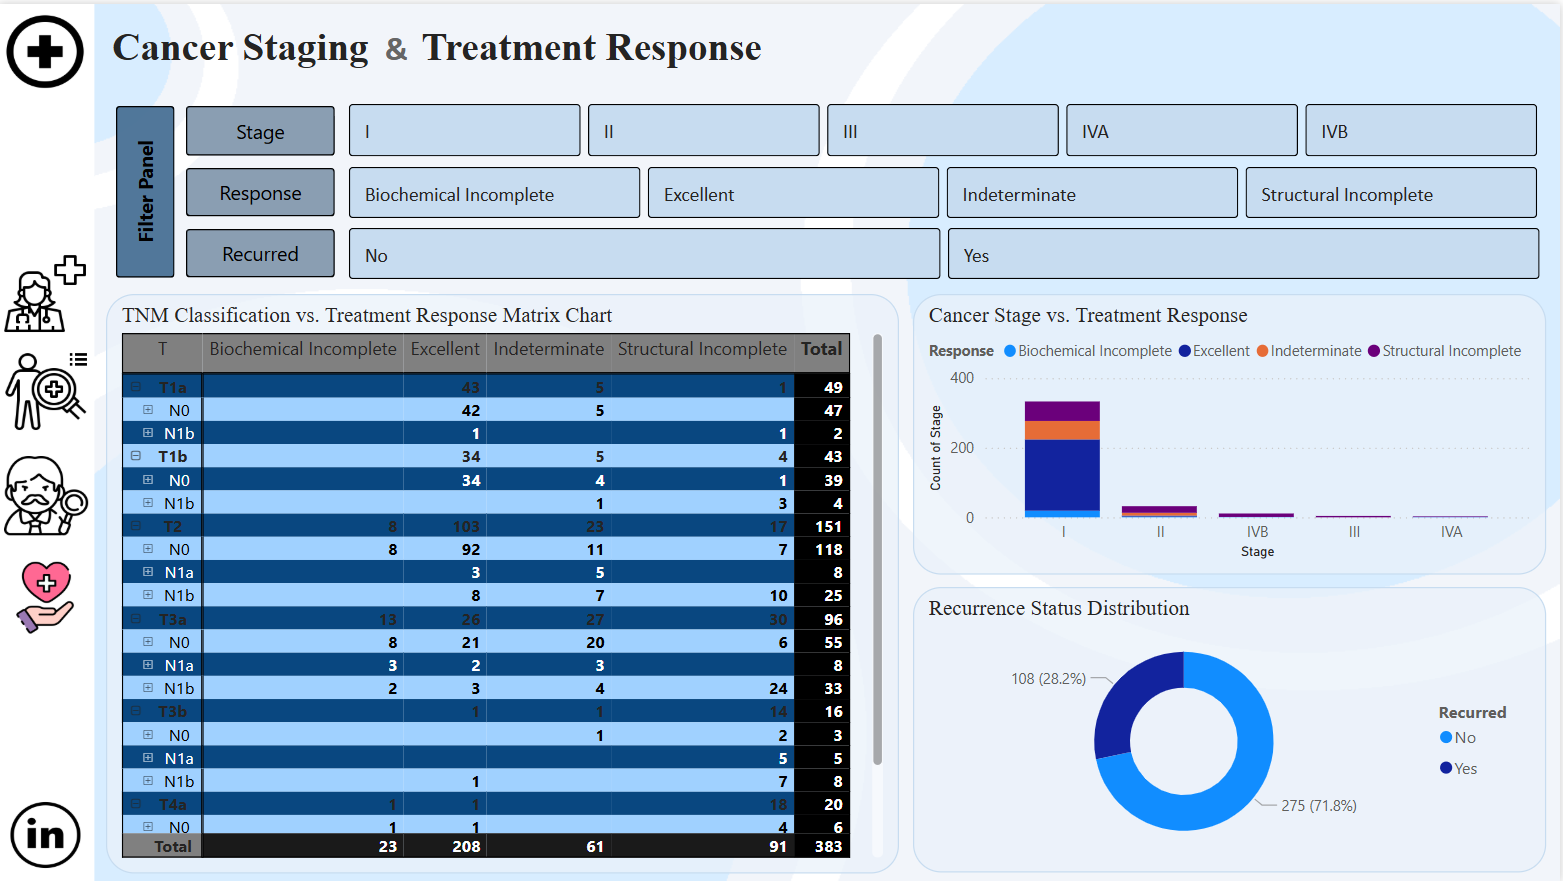

The page's visual inventory and layout, read from the dashboard file:
{"tool":"powerbi","page":{"name":"Cancer Staging  &  Treatment Response","canvas":[1280,720],"ordinal":5},"visuals":[{"type":"columnChart","title":"Cancer Stage vs. Treatment Response","fields":{"Category":["Thyroid_Diff.Stage"],"Series":["Thyroid_Diff.Response"],"Y":["CountNonNull(Thyroid_Diff.Stage)"]},"box":[750,237.5,518.8,230.2],"z":0},{"type":"donutChart","title":"Recurrence Status Distribution","fields":{"Category":["Thyroid_Diff.Recurred"],"Y":["CountNonNull(Thyroid_Diff.Recurred)"]},"box":[750,478.1,518.8,234.4],"z":1000},{"type":"pivotTable","title":"TNM Classification vs. Treatment Response Matrix Chart","fields":{"Rows":["Thyroid_Diff.T","Thyroid_Diff.N","Thyroid_Diff.M"],"Values":["CountNonNull(Thyroid_Diff.Stage)"],"Columns":["Thyroid_Diff.Response"]},"box":[88.5,237.5,650,475],"z":2000},{"type":"advancedSlicerVisual","fields":{"Values":["Thyroid_Diff.Stage"]},"box":[283.3,78.1,985.4,51],"z":3000},{"type":"shape","box":[154.2,83.3,121.9,40.6],"z":4000},{"type":"advancedSlicerVisual","fields":{"Values":["Thyroid_Diff.Response"]},"box":[283.3,129.2,985.4,50],"z":5000},{"type":"shape","box":[154.2,134.4,121.9,39.6],"z":6000},{"type":"advancedSlicerVisual","fields":{"Values":["Thyroid_Diff.Recurred"]},"box":[283.3,179.2,985.4,50],"z":7000},{"type":"shape","box":[154.2,184.4,121.9,39.6],"z":8000},{"type":"shape","box":[0,0,79,719.8],"z":9000},{"type":"shape","box":[96.9,83.3,47.9,140.6],"z":10000},{"type":"textbox","box":[88.5,12.5,577.1,59.4],"z":11000},{"type":"image","box":[4.8,285.6,69.2,65.4],"z":12000},{"type":"image","box":[4.8,370.2,69.2,65.4],"z":13000},{"type":"image","box":[4,205,69.2,65.4],"z":14000},{"type":"image","box":[4,454,69,65],"z":15000},{"type":"image","box":[3.8,6.7,69.2,65.4],"z":16000},{"type":"image","box":[4.9,649.2,68,63.9],"z":16001}]}

Visuals, with their boxes in screenshot pixels (x1, y1, x2, y2), scaled from the page's 1280x720 canvas onto the 1563x881 screenshot:
"Cancer Stage vs. Treatment Response" columnChart: (916, 291, 1549, 572)
"Recurrence Status Distribution" donutChart: (916, 585, 1549, 872)
"TNM Classification vs. Treatment Response Matrix Chart" pivotTable: (108, 291, 902, 872)
advancedSlicerVisual - Thyroid_Diff.Stage: (346, 96, 1549, 158)
shape: (188, 102, 337, 152)
advancedSlicerVisual - Thyroid_Diff.Response: (346, 158, 1549, 219)
shape: (188, 164, 337, 213)
advancedSlicerVisual - Thyroid_Diff.Recurred: (346, 219, 1549, 280)
shape: (188, 226, 337, 274)
shape: (0, 0, 96, 880)
shape: (118, 102, 177, 274)
textbox: (108, 15, 813, 88)
image: (6, 349, 90, 429)
image: (6, 453, 90, 533)
image: (5, 251, 89, 331)
image: (5, 556, 89, 635)
image: (5, 8, 89, 88)
image: (6, 794, 89, 873)
